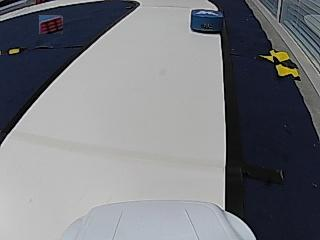prop: (190, 10, 223, 34)
